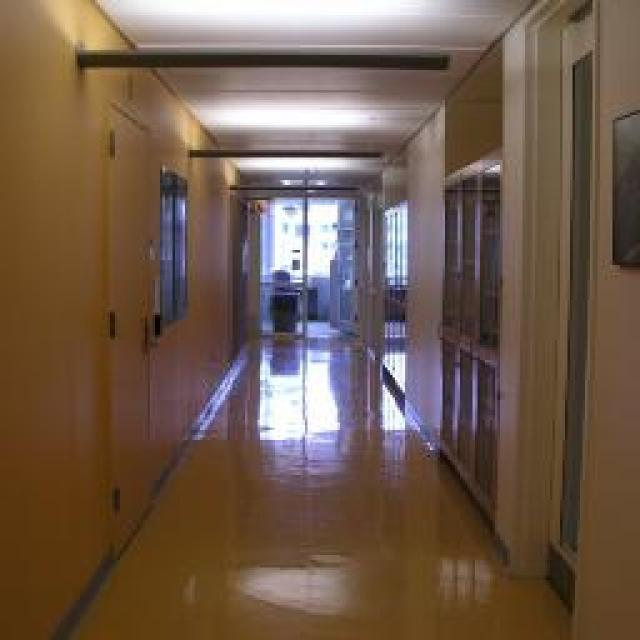cabinets: (435, 142, 500, 535), (378, 195, 405, 392)
ceiling beam: (95, 2, 532, 195)
door bars: (542, 0, 598, 610), (108, 102, 155, 560)
floor -X: (72, 345, 570, 640)
glass fish -X: (252, 200, 362, 340)
picture crop: (152, 155, 190, 338), (605, 105, 640, 270)
wall clock: (2, 0, 252, 640), (360, 0, 584, 582), (572, 0, 640, 640)
